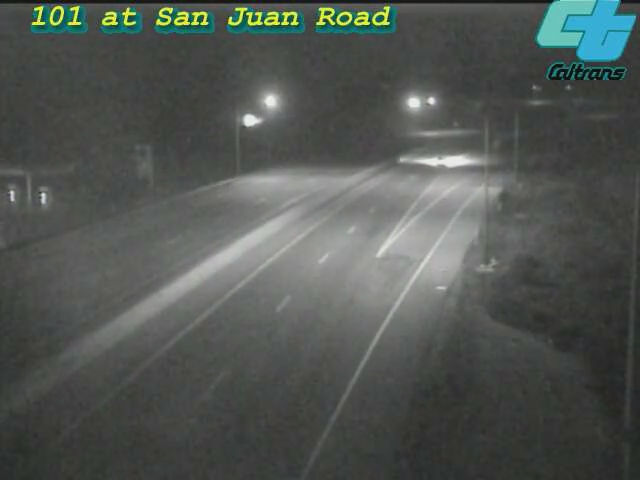vehicle: (400, 122, 480, 202)
